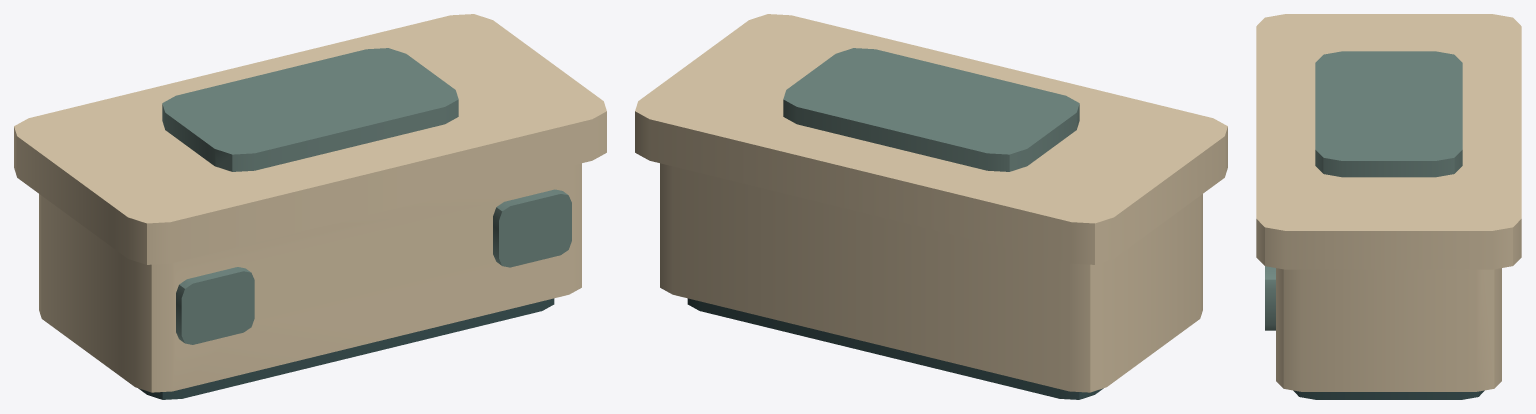
The model's file is lab-bench.glb.
3 views of the same model, side by side, from view 1: azimuth 30°, elevation 25°; view 2: azimuth 150°, elevation 25°; view 3: azimuth 270°, elevation 25° (orthographic). The views are drawn at different scales.
Visible parts, largest first — view 1: lab-bench; view 2: lab-bench; view 3: lab-bench.
Boxes of the visible parts, <box> form: lab-bench: <box>14,14,606,399</box>; lab-bench: <box>635,14,1227,399</box>; lab-bench: <box>1256,14,1521,399</box>.
Bounding box in the file's own units: 3 × 1.3 × 1.55.
Materials: 1 (1 with a texture image).
